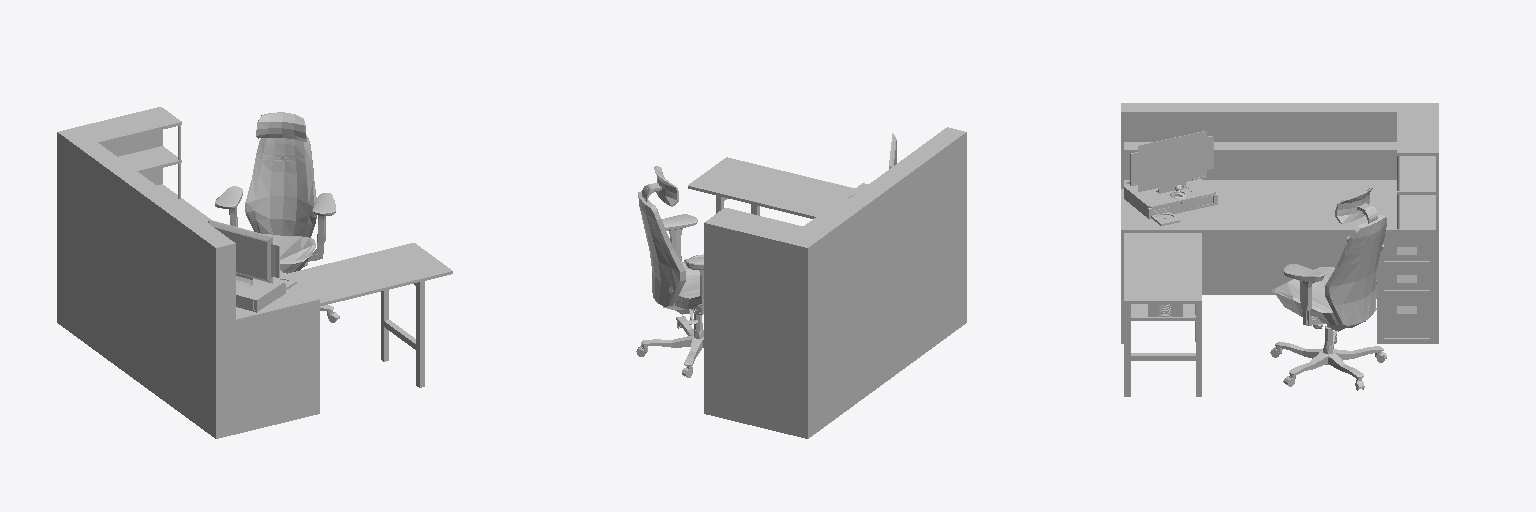
Rendered from desk_with_normals.obj.
The picture shows the model from 3 angles: view 1: azimuth 30°, elevation 25°; view 2: azimuth 150°, elevation 25°; view 3: azimuth 270°, elevation 25°; orthographic projection.
Bounding box in the file's own units: 2.16 × 1.66 × 2.49.